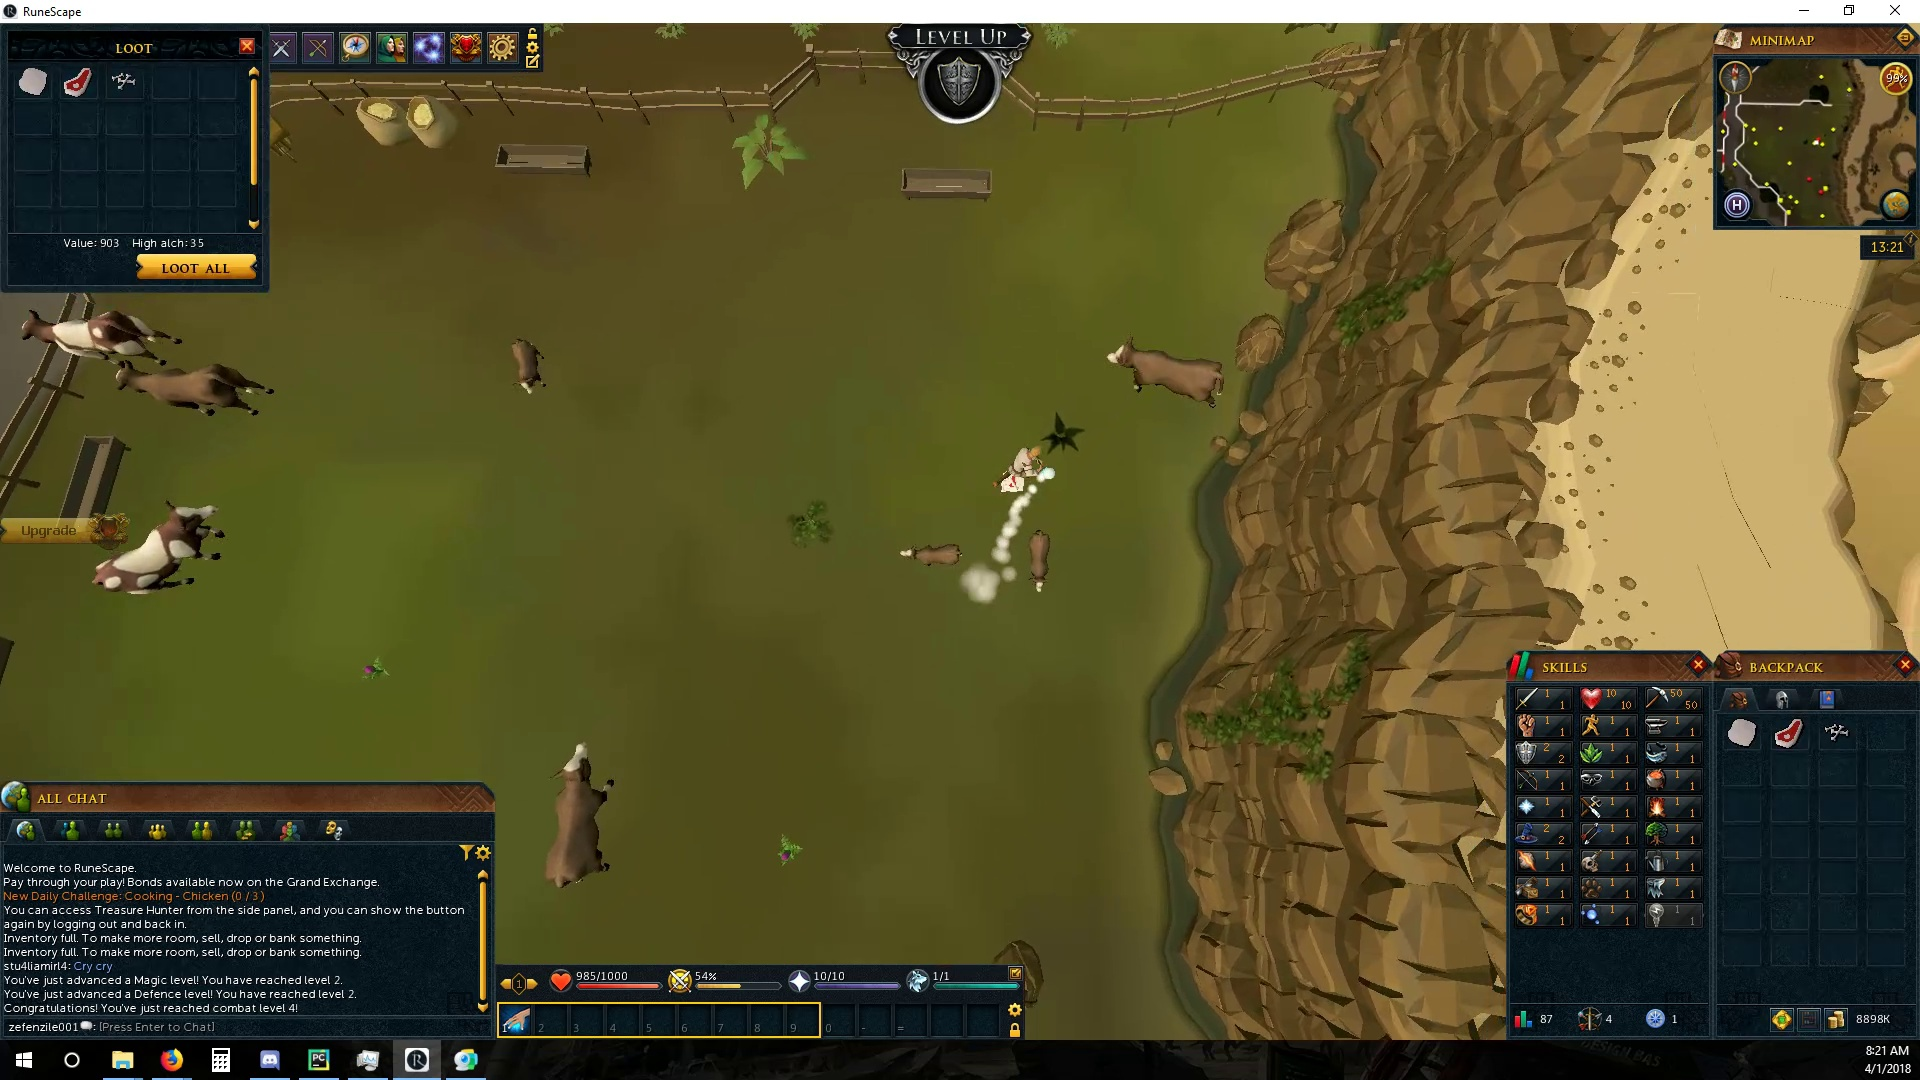calf: (505, 336, 549, 397), (895, 538, 969, 571), (1023, 531, 1054, 596)
cow: (91, 497, 229, 597), (541, 738, 616, 895), (13, 307, 181, 371), (109, 360, 281, 419), (1100, 334, 1229, 411)
cow_drop: (997, 471, 1029, 498)
